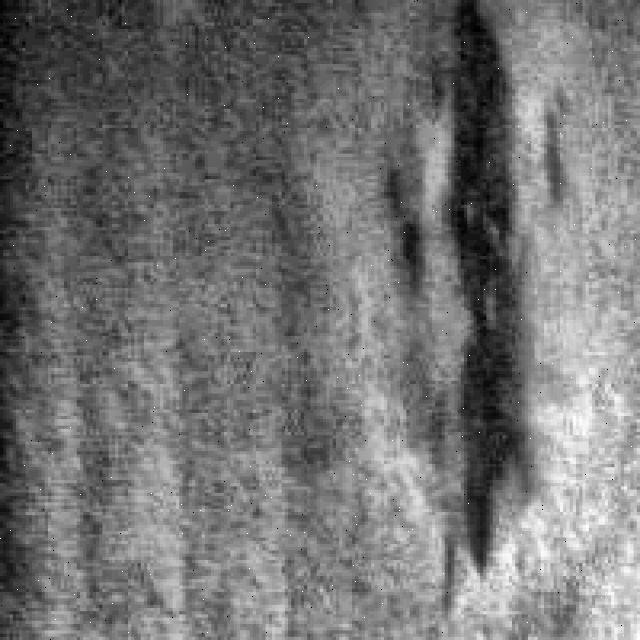Patches: (391, 0, 557, 582)
